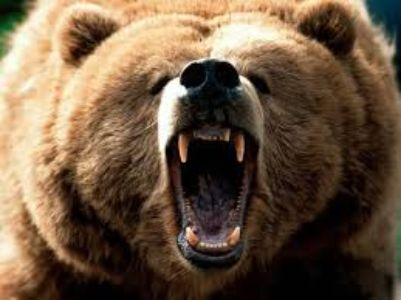bear: (9, 3, 385, 286)
